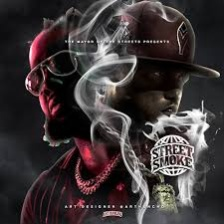smoke: (83, 30, 121, 136)
